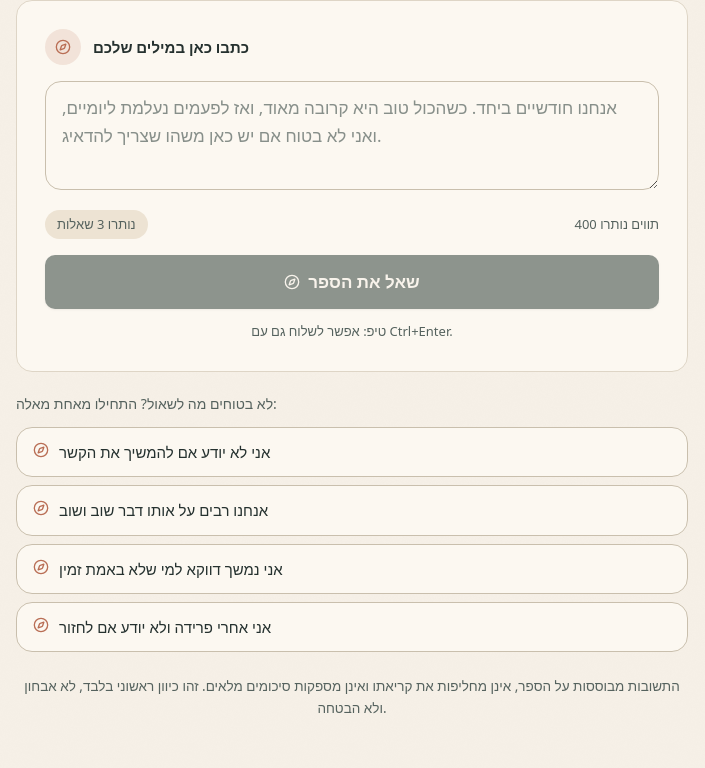
Test: CompassConsole, attention line (focus) › does NOT render the attention line when the answer has no focus field
Replace the text in the text box labelled "כתבו כאן במילים שלכם" with "מה קורה כשהיא מתרחקת לפעמים?" at coordinates (352, 135), box [45,81,659,190]
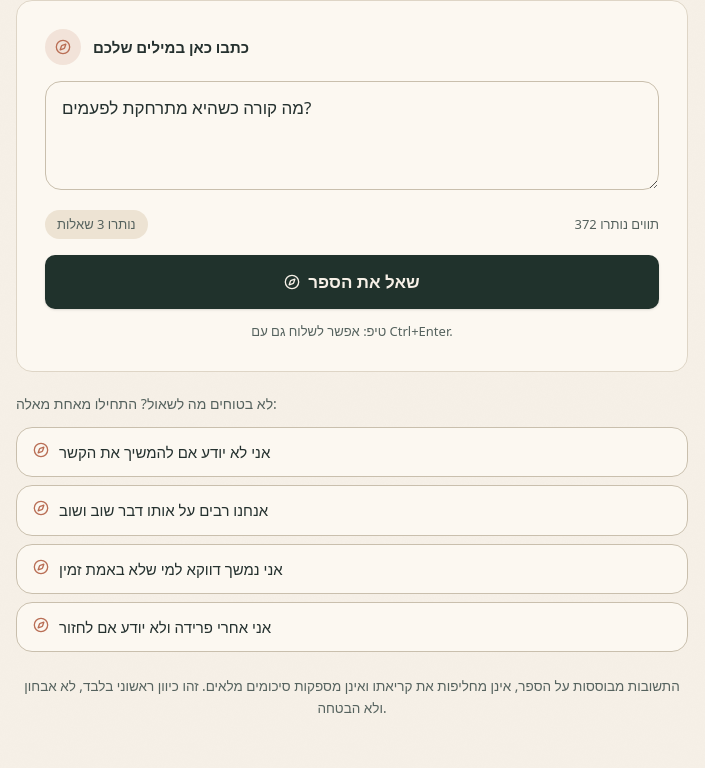
Click the button "שאל את הספר" at coordinates (352, 282), box [45,255,659,309]
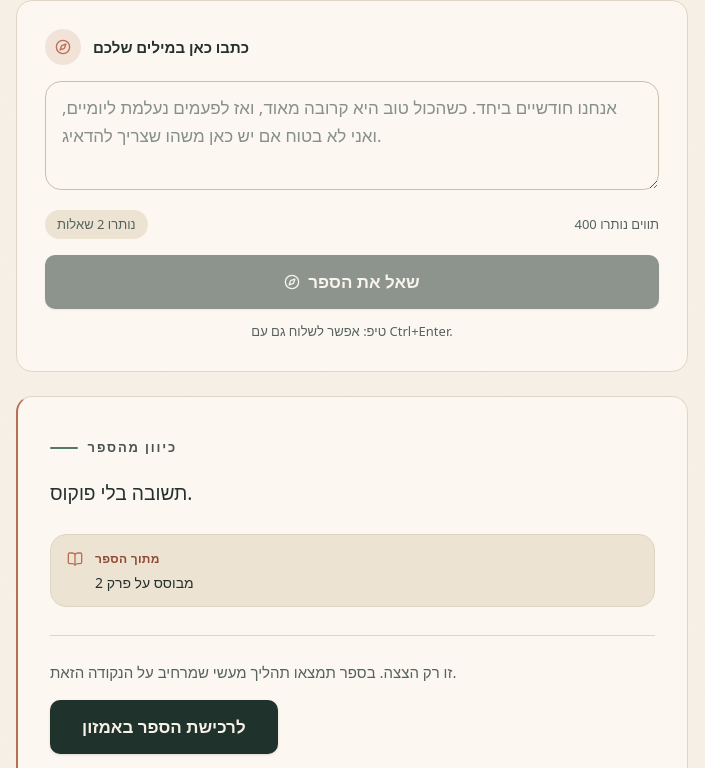
Now the text "תשובה בלי פוקוס." is shown, box [50,478,192,506]
